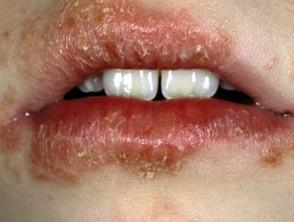Eczema: (119, 151, 186, 187), (35, 118, 63, 142), (261, 140, 284, 167), (100, 107, 124, 132), (62, 0, 97, 17), (104, 35, 123, 64), (159, 112, 178, 139), (134, 37, 152, 64), (38, 149, 56, 174), (231, 119, 250, 142), (191, 42, 214, 61), (220, 28, 236, 54), (16, 105, 37, 124), (73, 28, 95, 46), (92, 21, 115, 38), (147, 143, 165, 164), (185, 121, 204, 139), (263, 51, 277, 75), (97, 4, 116, 20), (118, 6, 137, 22), (61, 172, 78, 189), (50, 26, 62, 48), (77, 146, 88, 164)
